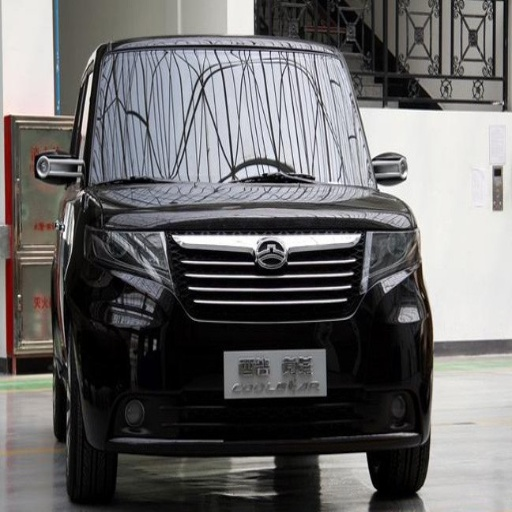front_bumper: (70, 207, 427, 482)
front_right_light: (91, 222, 166, 274)
hood: (90, 167, 412, 229)
left_mirror: (371, 152, 408, 185)
